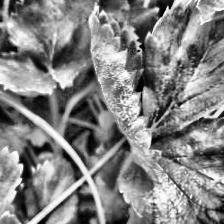Powdery Mildew Leaf: (88, 4, 165, 174)
